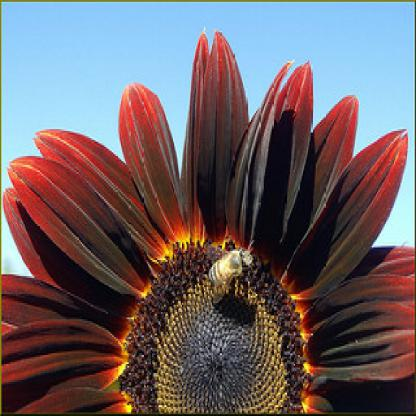SUN FLOWER: (42, 48, 398, 410)
